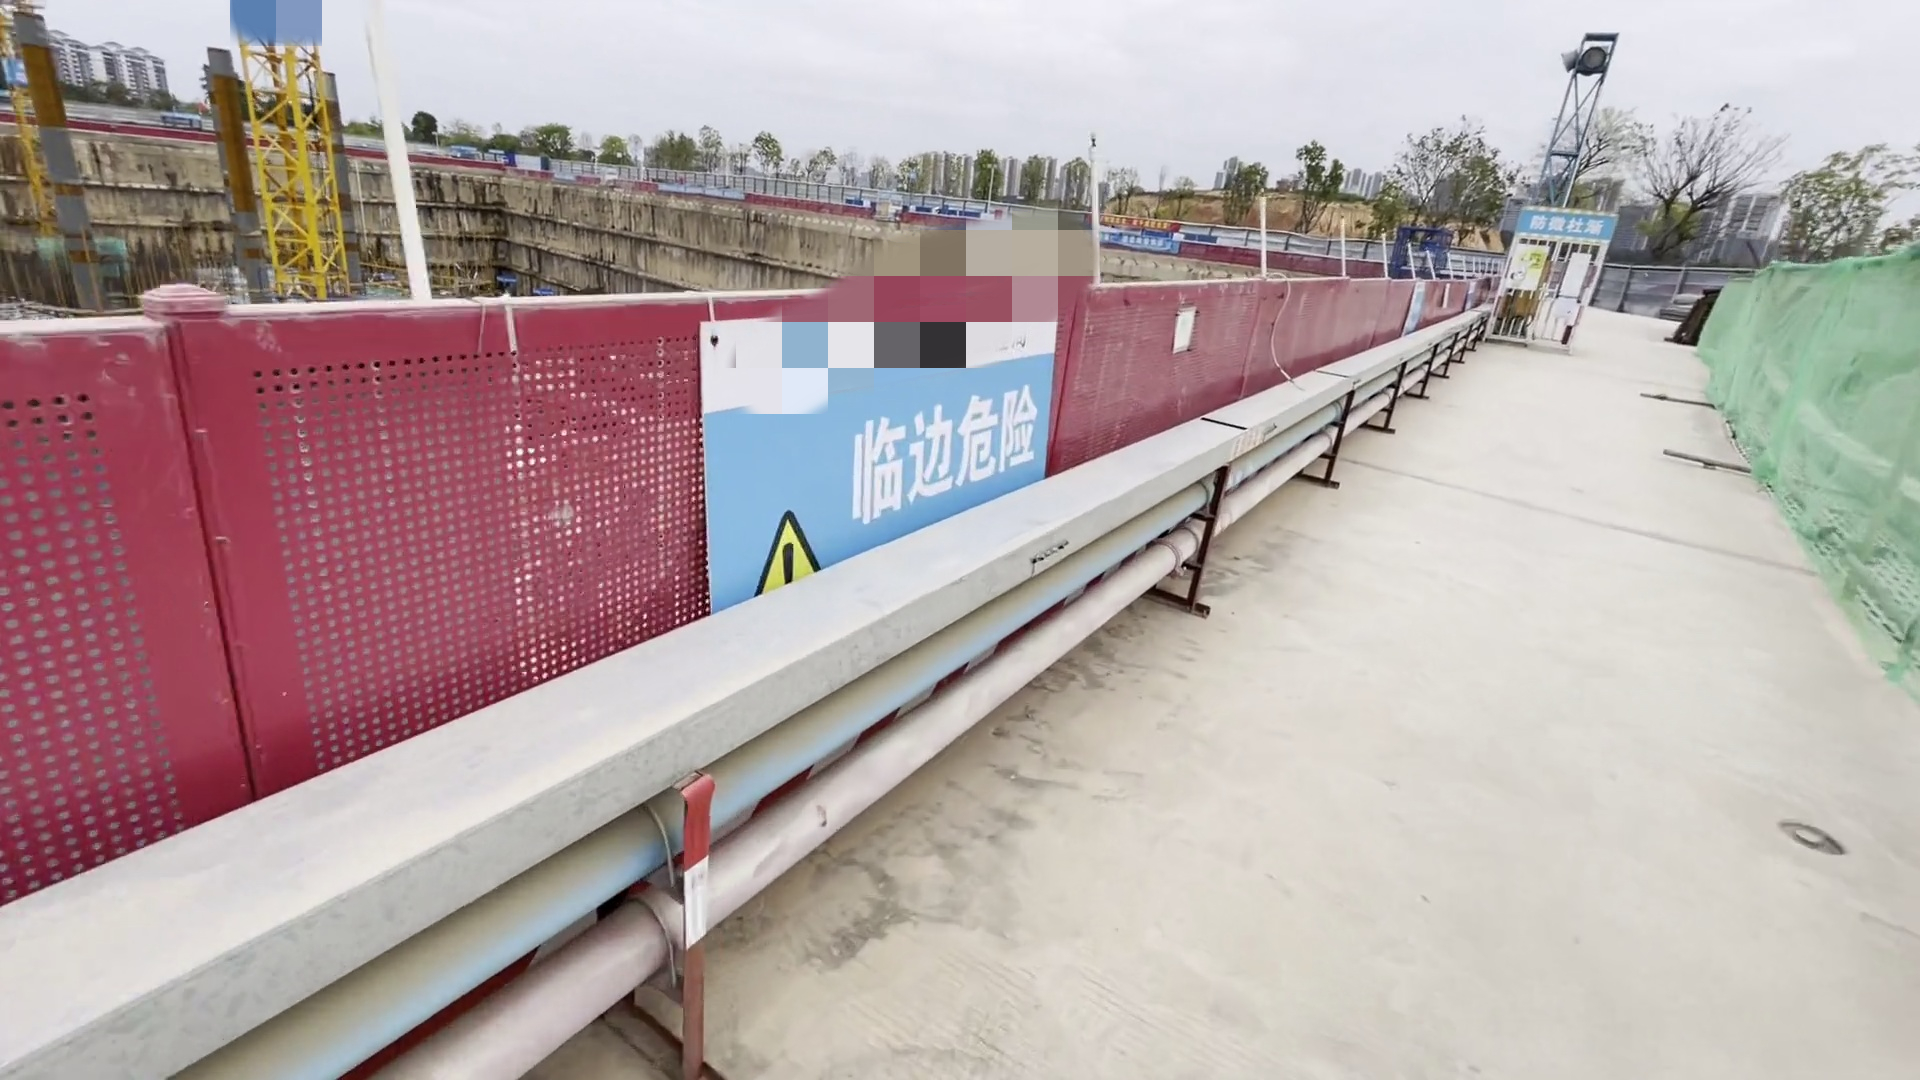fence: (1, 278, 1487, 903)
slogan: (828, 385, 1039, 516), (1077, 208, 1180, 258), (1530, 206, 1600, 245)
